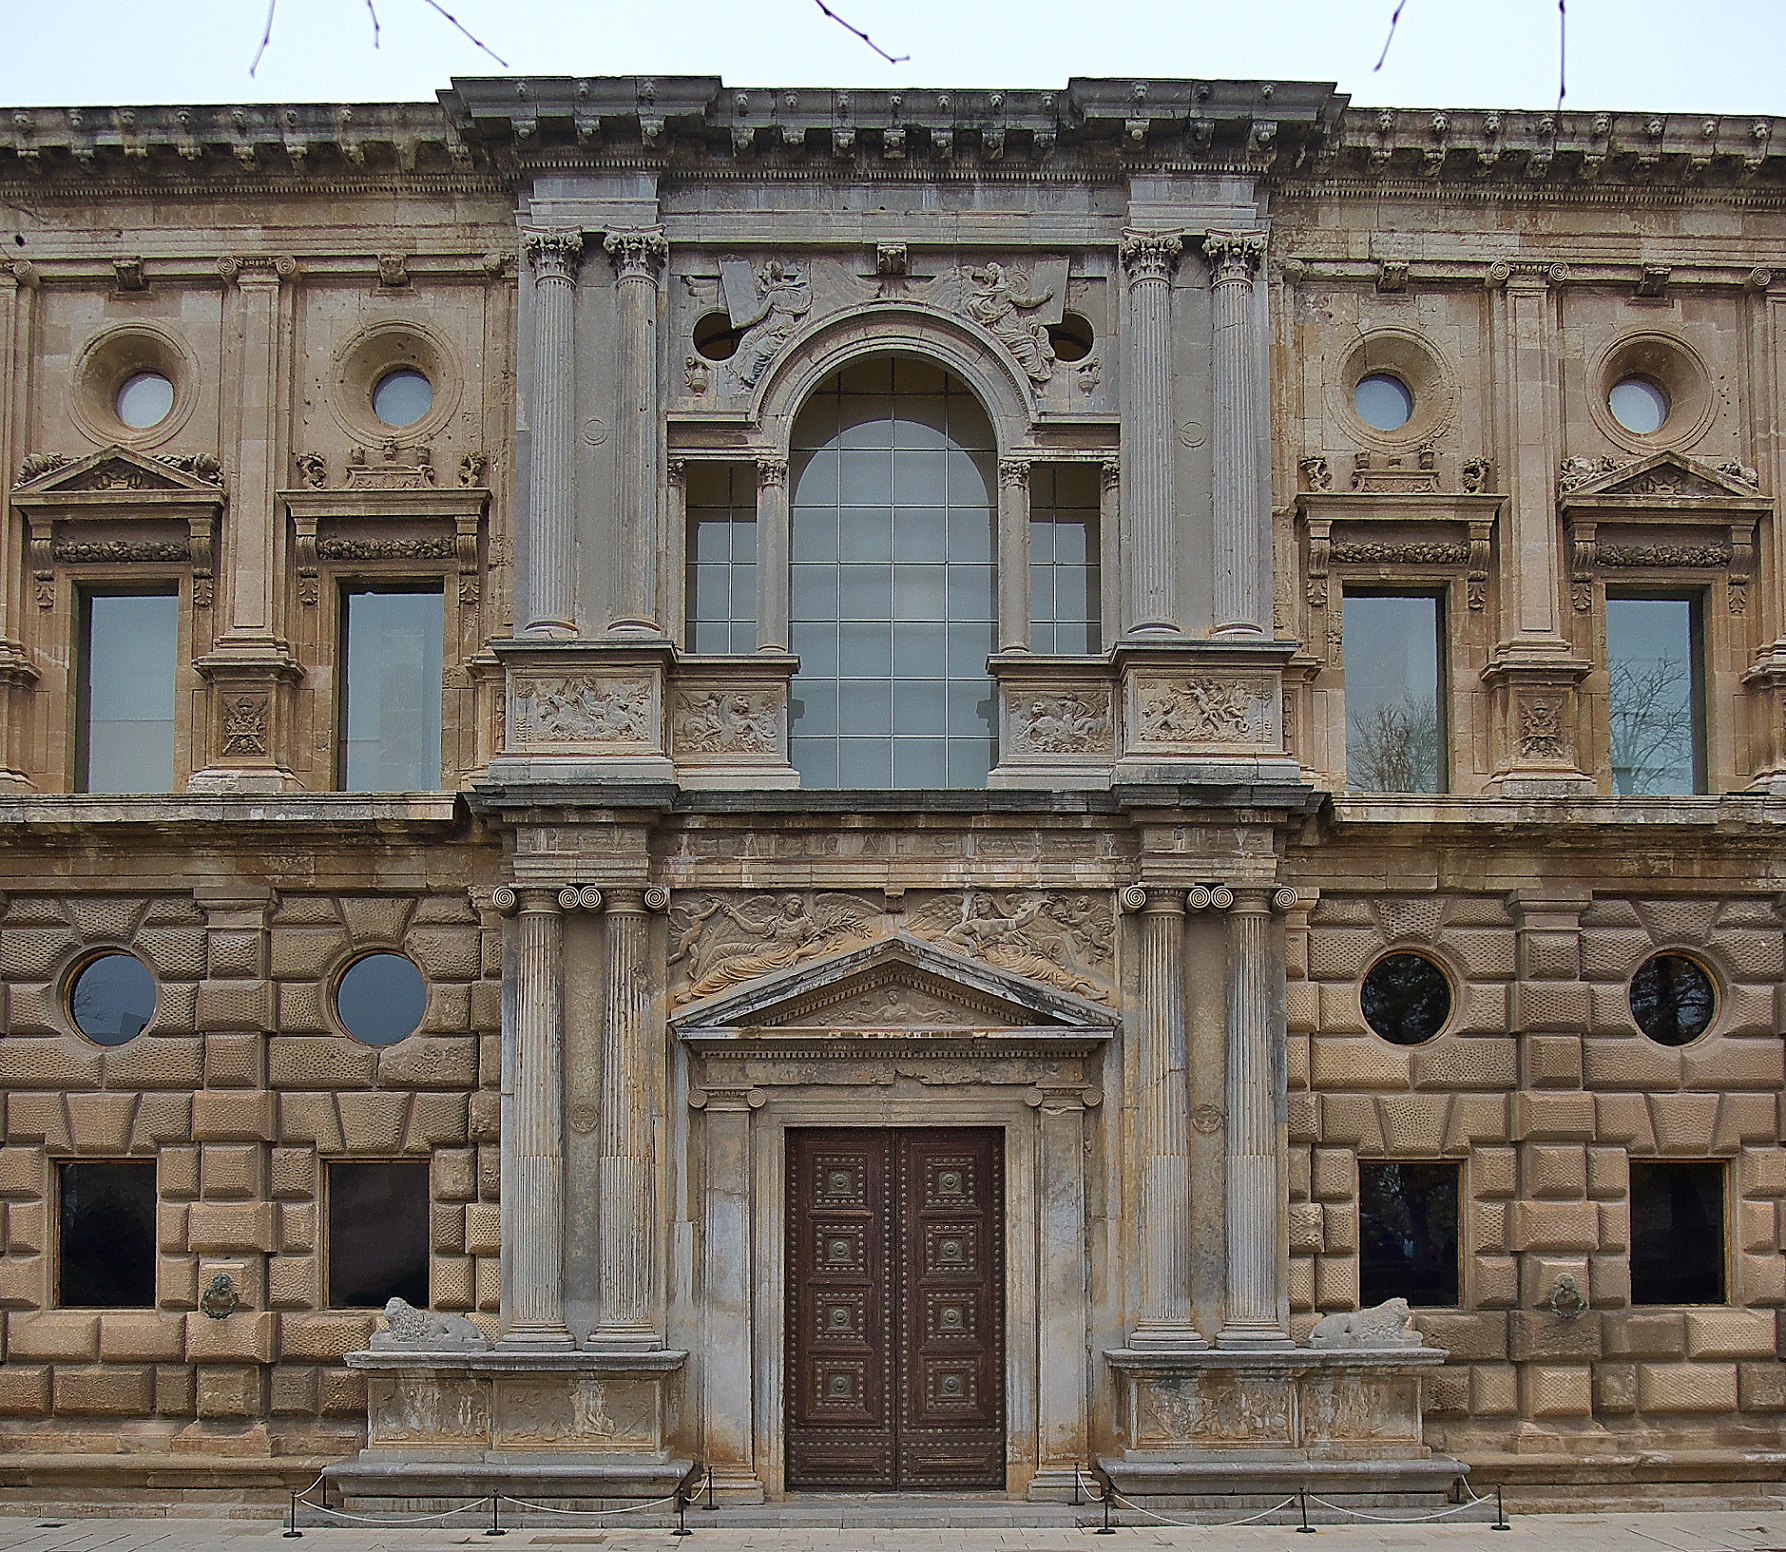fronton: (662, 929, 1128, 1055), (2, 440, 231, 518), (1554, 446, 1780, 522)
ojo-de-buey: (65, 313, 200, 443), (1581, 326, 1721, 453), (325, 314, 462, 440), (1330, 326, 1456, 443), (1349, 931, 1469, 1052), (43, 935, 163, 1055), (311, 935, 431, 1052), (1614, 935, 1728, 1048)
serliana: (655, 281, 1125, 673)
vano-adintelado: (749, 1080, 1042, 1506), (319, 557, 462, 797), (1330, 565, 1469, 803), (1598, 565, 1734, 803), (55, 550, 185, 797)
